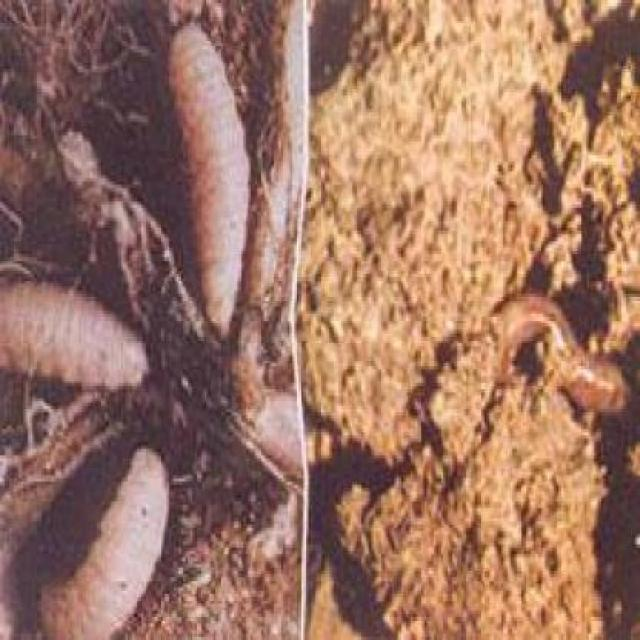whorl-maggot: (31, 445, 169, 637), (166, 22, 249, 338), (2, 279, 152, 386)
